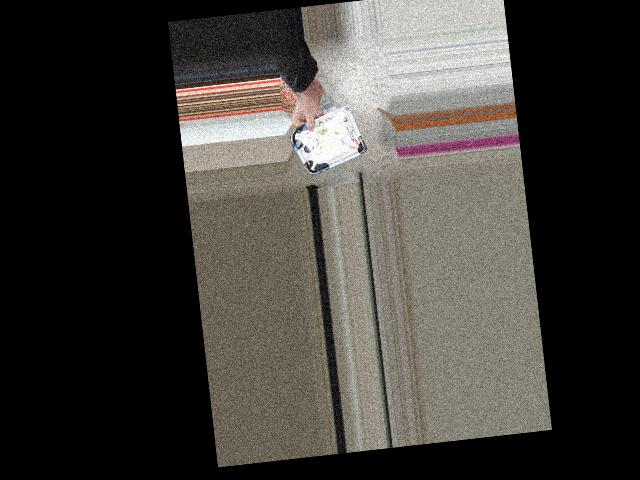cheese: (292, 116, 360, 169)
